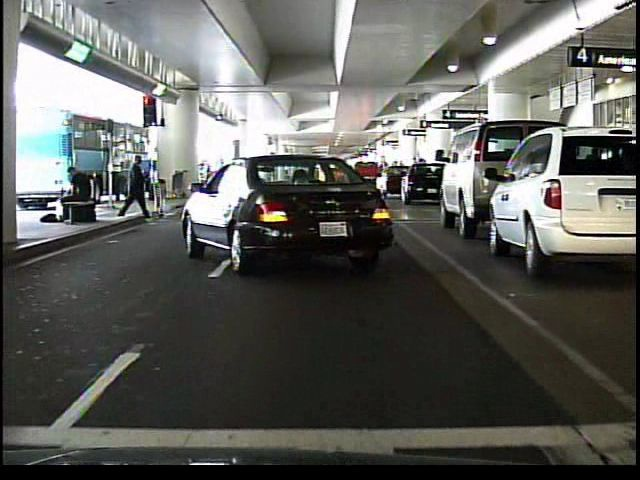person: (58, 163, 95, 230), (117, 149, 147, 217)
